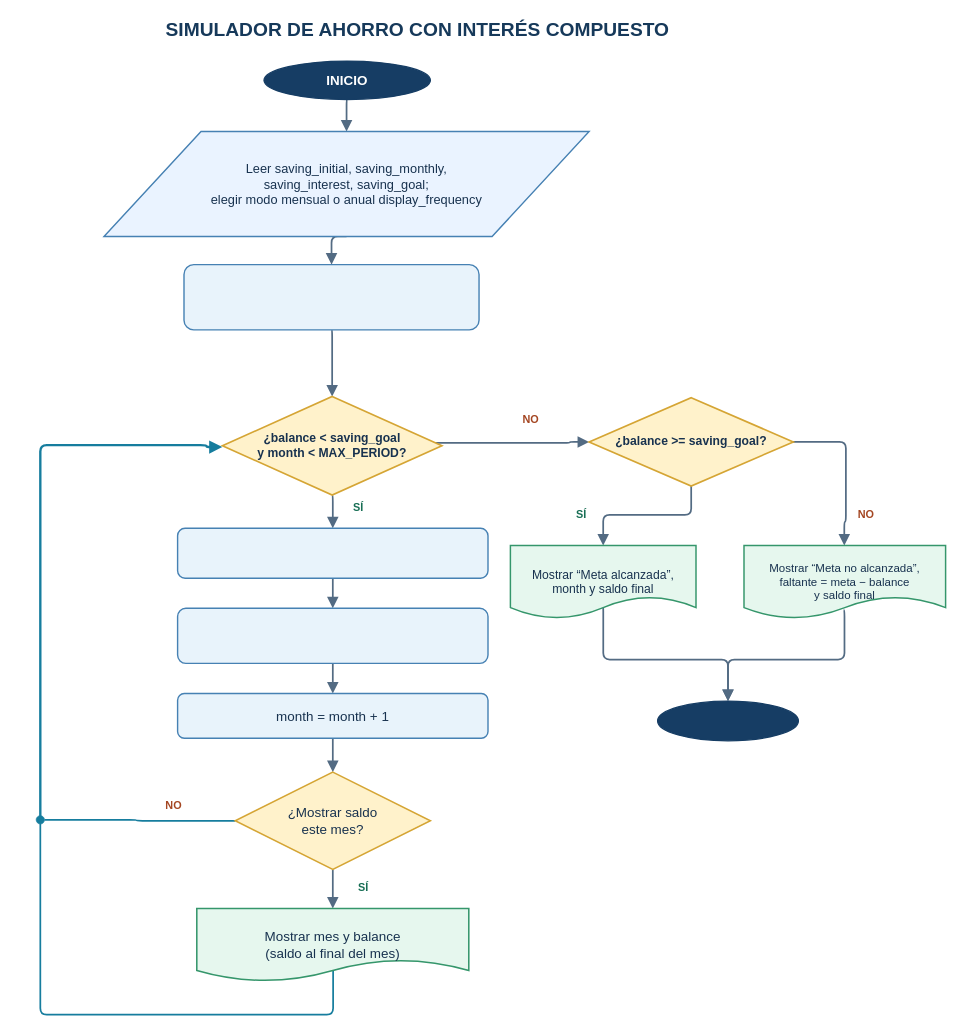
This 957x1027 diagram has some shape labels left out. The box of each missing label's shape, as (x1, y1, x2, y2) in pixels:
balance = balance + interest + saving_monthly: (177, 607, 488, 664)
balance = saving_initial saving_interest = tasa / 100 month = 0 MAX_PERIOD = 120: (183, 264, 479, 330)
FIN: (657, 700, 799, 741)
interest = balance * saving_interest: (177, 527, 488, 579)
